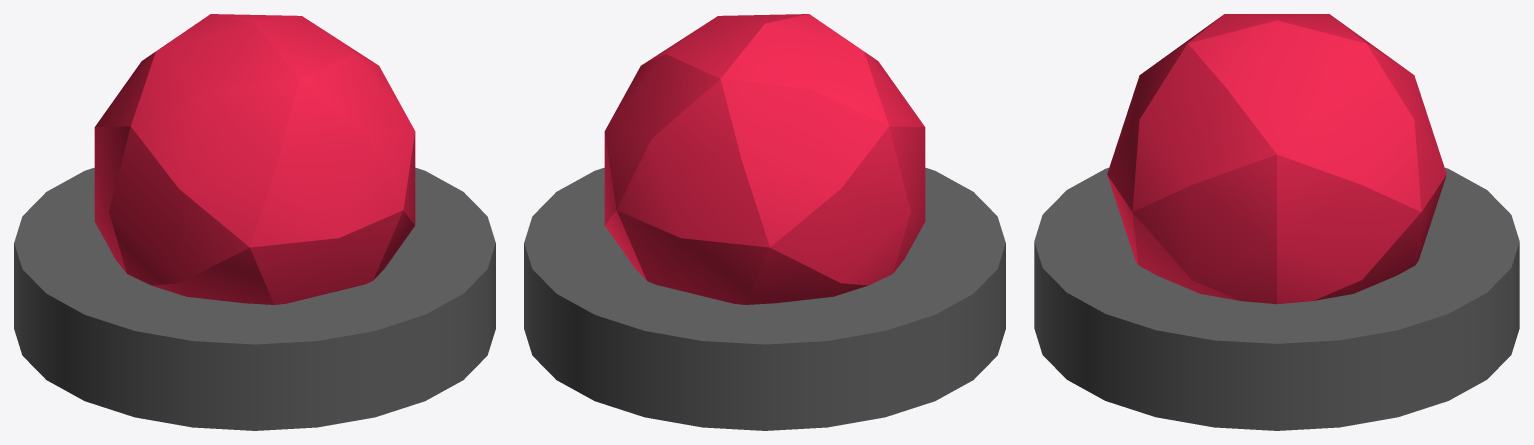
File: gems_ruby_3.obj
3 views of the same model, side by side, from view 1: azimuth 30°, elevation 25°; view 2: azimuth 150°, elevation 25°; view 3: azimuth 270°, elevation 25° (orthographic).
Parts seen in each view (by area): view 1: mergedBlocks; view 2: mergedBlocks; view 3: mergedBlocks.
Boxes of the visible parts, x1,y1,x2,y2 form: mergedBlocks: (14, 14, 495, 430); mergedBlocks: (524, 14, 1005, 430); mergedBlocks: (1034, 14, 1519, 430).
Size of the model in its own units: 1 by 0.7 by 1.
